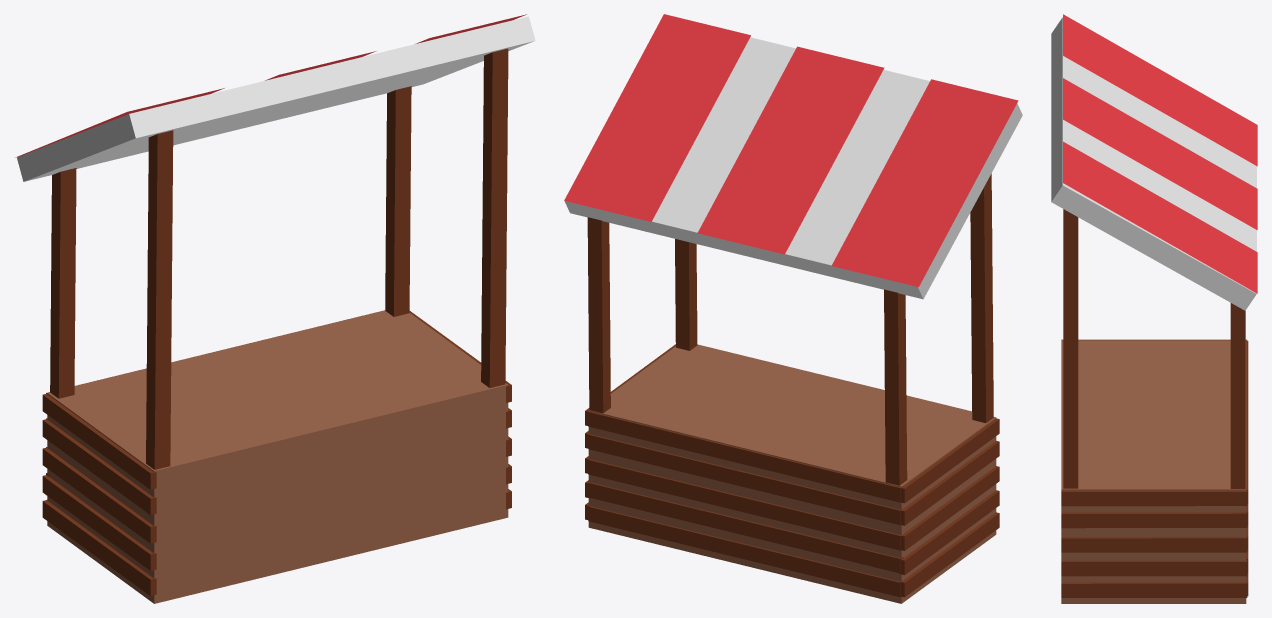
File: stand.fbx
3 views of the same model, side by side, from view 1: azimuth 30°, elevation 25°; view 2: azimuth 150°, elevation 25°; view 3: azimuth 270°, elevation 25° (orthographic). The views are drawn at different scales.
Visible parts, largest first — view 1: Cube, Cube.020, Cube.018, Cube.019, Cube.016, Cube.017, Cube.007, Cube.010, Cube.006, Cube.008, Cube.009; view 2: Cube, Cube.020, Cube.022, Cube.023, Cube.021, Cube.018, Cube.004, Cube.002, Cube.003, Cube.001, Cube.005, Cube.016 (+7 smaller); view 3: Cube, Cube.020, Cube.021, Cube.022, Cube.023, Cube.019, Cube.012, Cube.015, Cube.014, Cube.011, Cube.013, Cube.016 (+2 smaller).
Part boxes in pixels (box(x1,y1,x2,y2)): Cube: box(47, 310, 508, 603); Cube.020: box(17, 16, 535, 181); Cube.018: box(146, 130, 173, 469); Cube.019: box(481, 48, 508, 387); Cube.016: box(385, 86, 411, 316); Cube.017: box(50, 168, 76, 398); Cube.007: box(42, 419, 156, 515); Cube.010: box(42, 500, 156, 595); Cube.006: box(42, 393, 156, 489); Cube.008: box(42, 447, 156, 543); Cube.009: box(42, 475, 156, 570); Cube: box(588, 344, 996, 603); Cube.020: box(564, 37, 1022, 299); Cube.022: box(697, 46, 884, 254); Cube.023: box(831, 79, 1018, 287); Cube.021: box(564, 14, 750, 221); Cube.018: box(970, 173, 993, 422); Cube.004: box(588, 482, 903, 573); Cube.002: box(588, 434, 901, 525); Cube.003: box(588, 459, 900, 550); Cube.001: box(588, 411, 903, 502); Cube.005: box(588, 506, 900, 597); Cube.016: box(587, 217, 610, 413); Cube: box(1061, 340, 1246, 603); Cube.020: box(1051, 17, 1256, 310); Cube.021: box(1063, 141, 1257, 293); Cube.022: box(1063, 78, 1257, 230); Cube.023: box(1063, 14, 1257, 166); Cube.019: box(1063, 209, 1078, 488); Cube.012: box(1061, 560, 1247, 576); Cube.015: box(1061, 490, 1247, 506); Cube.014: box(1061, 512, 1247, 528); Cube.011: box(1061, 581, 1247, 597); Cube.013: box(1061, 536, 1247, 552); Cube.016: box(1230, 303, 1245, 488).
Bounding box in the file's own units: 633 × 750 × 326.
